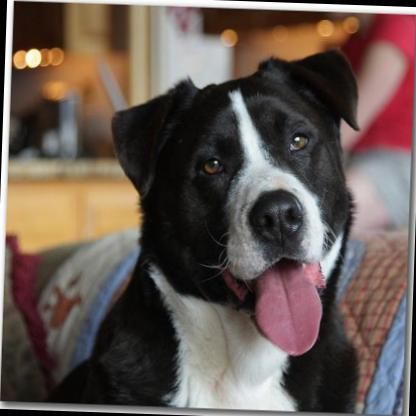Border_collie: (48, 36, 374, 413)
